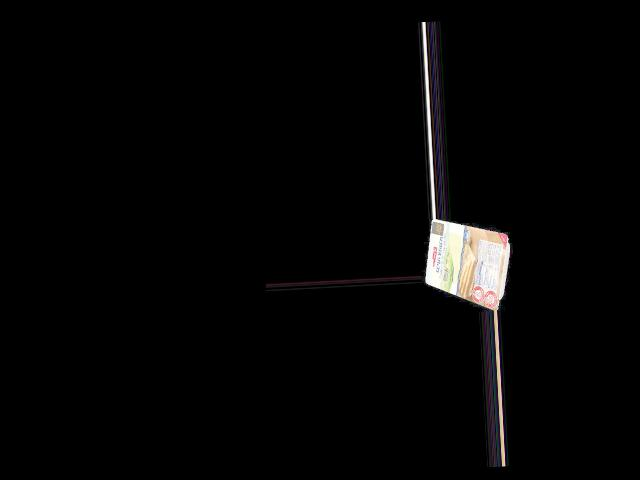cheese: (423, 223, 510, 299)
